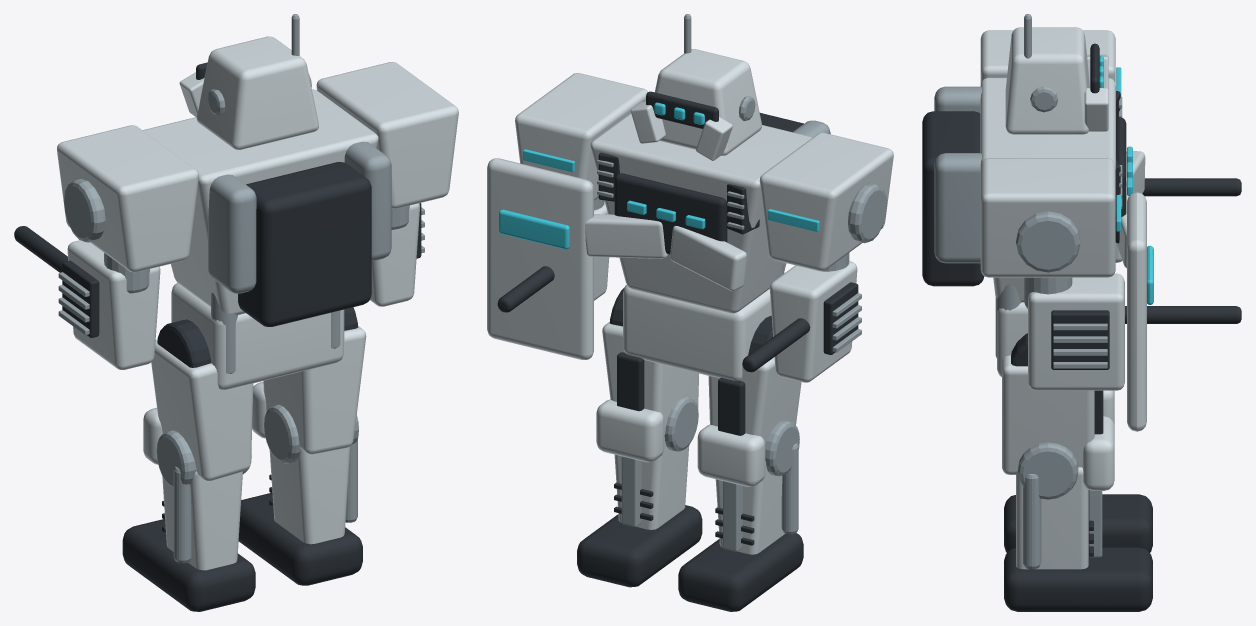
File: PoliceRobot.fbx
3 views of the same model, side by side, from view 1: azimuth 30°, elevation 25°; view 2: azimuth 150°, elevation 25°; view 3: azimuth 270°, elevation 25° (orthographic). The views are drawn at different scales.
Parts seen in each view (by area): view 1: Arm_-1_SecurityCeramic, RobotRoot_SecurityCarbon, Arm_1_SecurityCeramic, Torso_SecurityCeramic, Sensor_SecurityCeramic, Thigh_-1_SecurityCeramic, Hip_SecurityCeramic, RobotRoot_SecuritySteel, Thigh_1_SecurityCeramic, Shin_1_SecurityCeramic, Shin_-1_SecurityCarbon, Shin_-1_SecurityCeramic (+8 smaller); view 2: Arm_1_SecurityCeramic, Torso_SecurityCeramic, Arm_-1_SecurityCeramic, Hip_SecurityCeramic, Sensor_SecurityCeramic, Shin_1_SecurityCeramic, Shin_1_SecurityCarbon, Shin_-1_SecurityCarbon, Shin_-1_SecurityCeramic, Torso_SecurityCarbon, Shin_-1_SecuritySteel, Thigh_-1_SecurityCeramic (+13 smaller); view 3: Arm_1_SecurityCeramic, Sensor_SecurityCeramic, Shin_1_SecurityCarbon, Torso_SecurityCeramic, Thigh_1_SecurityCeramic, RobotRoot_SecuritySteel, Shin_1_SecurityCeramic, Arm_1_SecuritySteel, RobotRoot_SecurityCarbon, Shin_1_SecuritySteel, Arm_1_SecurityCarbon, Shin_-1_SecurityCarbon (+9 smaller).
Part boxes in pixels (x1=…): Arm_-1_SecurityCeramic: x1=57, y1=125, x2=198, y2=369; RobotRoot_SecurityCarbon: x1=238, y1=162, x2=371, y2=326; Arm_1_SecurityCeramic: x1=316, y1=62, x2=458, y2=306; Torso_SecurityCeramic: x1=142, y1=89, x2=378, y2=314; Sensor_SecurityCeramic: x1=179, y1=36, x2=318, y2=149; Thigh_-1_SecurityCeramic: x1=151, y1=339, x2=253, y2=480; Hip_SecurityCeramic: x1=171, y1=283, x2=344, y2=389; RobotRoot_SecuritySteel: x1=208, y1=141, x2=391, y2=293; Thigh_1_SecurityCeramic: x1=263, y1=326, x2=366, y2=454; Shin_1_SecurityCeramic: x1=252, y1=382, x2=350, y2=544; Shin_-1_SecurityCarbon: x1=122, y1=500, x2=255, y2=611; Shin_-1_SecurityCeramic: x1=143, y1=407, x2=242, y2=570; Arm_1_SecurityCeramic: x1=487, y1=73, x2=647, y2=359; Torso_SecurityCeramic: x1=585, y1=113, x2=812, y2=313; Arm_-1_SecurityCeramic: x1=759, y1=132, x2=893, y2=382; Hip_SecurityCeramic: x1=623, y1=285, x2=771, y2=380; Sensor_SecurityCeramic: x1=630, y1=49, x2=761, y2=160; Shin_1_SecurityCeramic: x1=596, y1=399, x2=689, y2=529; Shin_1_SecurityCarbon: x1=577, y1=482, x2=702, y2=587; Shin_-1_SecurityCarbon: x1=678, y1=507, x2=803, y2=611; Shin_-1_SecurityCeramic: x1=697, y1=424, x2=784, y2=554; Torso_SecurityCarbon: x1=598, y1=152, x2=759, y2=254; Shin_-1_SecuritySteel: x1=723, y1=420, x2=799, y2=551; Thigh_-1_SecurityCeramic: x1=708, y1=357, x2=801, y2=443; Arm_1_SecurityCeramic: x1=980, y1=158, x2=1146, y2=431; Sensor_SecurityCeramic: x1=1005, y1=27, x2=1108, y2=134; Shin_1_SecurityCarbon: x1=1004, y1=520, x2=1152, y2=611; Torso_SecurityCeramic: x1=980, y1=77, x2=1145, y2=302; Thigh_1_SecurityCeramic: x1=1002, y1=355, x2=1094, y2=474; RobotRoot_SecuritySteel: x1=934, y1=86, x2=981, y2=263; Shin_1_SecurityCeramic: x1=1016, y1=416, x2=1114, y2=569; Arm_1_SecuritySteel: x1=1016, y1=211, x2=1107, y2=368; RobotRoot_SecurityCarbon: x1=922, y1=111, x2=984, y2=286; Shin_1_SecuritySteel: x1=1018, y1=442, x2=1102, y2=569; Arm_1_SecurityCarbon: x1=1051, y1=306, x2=1241, y2=369; Shin_-1_SecurityCarbon: x1=1004, y1=494, x2=1152, y2=552.
Size of the model in its own units: 2.11 by 3.14 by 1.59.
